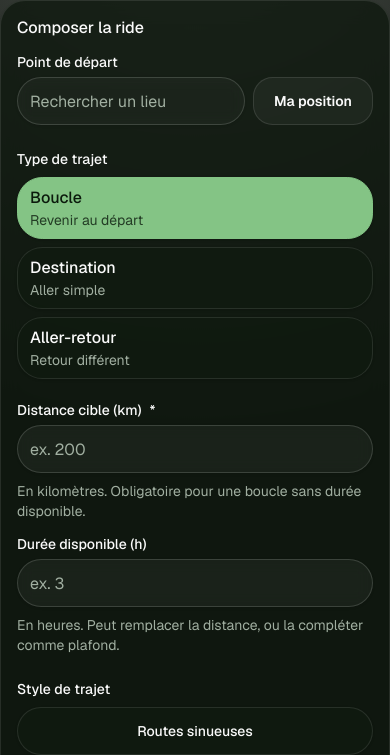
Test: RideRequestForm (FR-014) › hides destination for a loop and shows it for a destination ride (FR-018)
The width and height of the screenshot is (390, 755).
Click the radio button labelled "Destination Aller simple": x=73, y=268 [17,247,373,309]
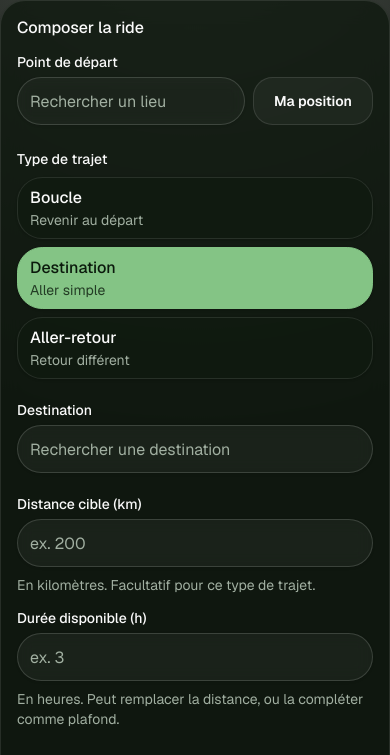
Result: the dropdown labelled "Destination" is shown at [17,425,373,473]
